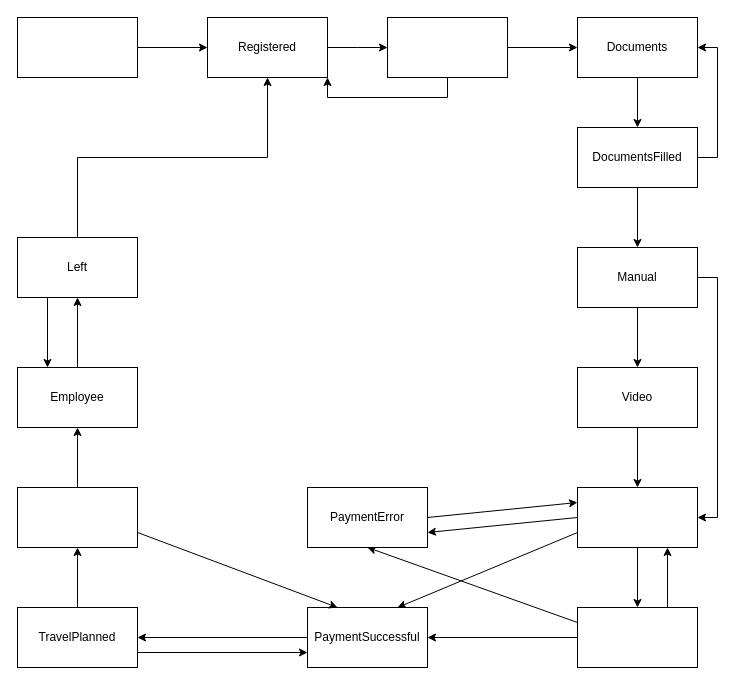
Some shapes in this 743 by 685 pixel diagram are drawn without their labels. Here are the shapes that lost their labels. From the top down, the centre of each, then its label:
At point (77, 47): "Initial".
At point (447, 47): "ApplicationFilled".
At point (77, 517): "TravelAccepted".
At point (637, 517): "PaymentCreated".
At point (637, 637): "PaymentPending".
